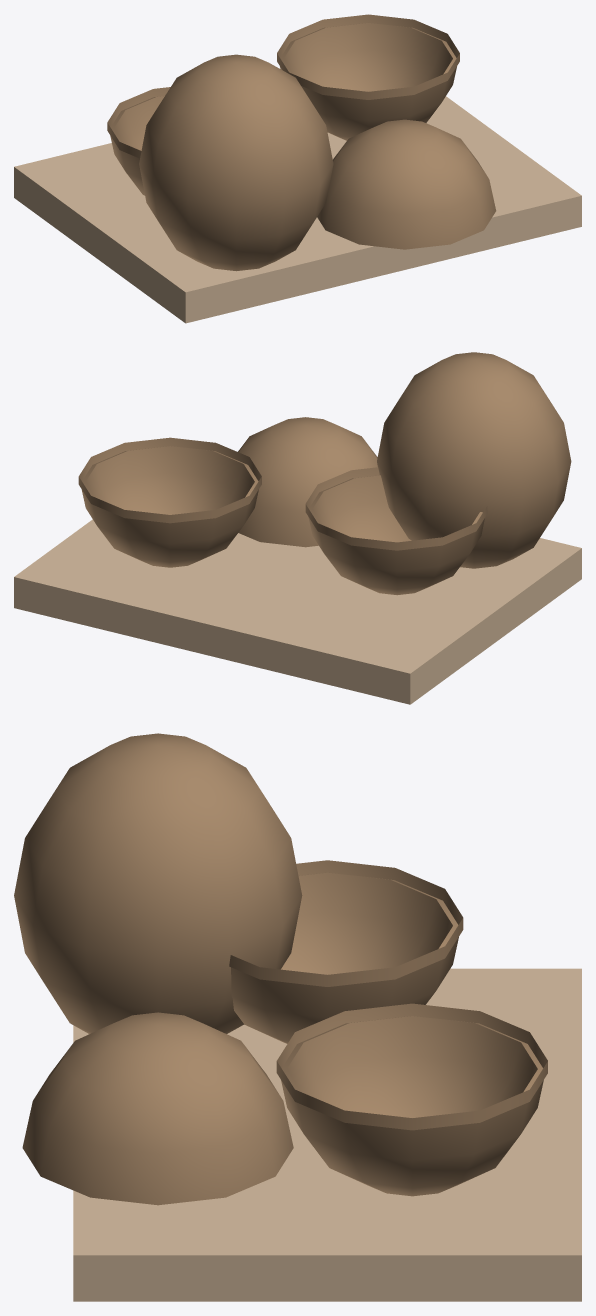
The model's file is Bathok_Shells.fbx.
3 views of the same model, one above another, from view 1: azimuth 30°, elevation 25°; view 2: azimuth 150°, elevation 25°; view 3: azimuth 270°, elevation 25° (orthographic). The views are drawn at different scales.
Visible parts, largest first — view 1: Bathok_Shells; view 2: Bathok_Shells; view 3: Bathok_Shells.
Part boxes in pixels (x1=…): Bathok_Shells: x1=14, y1=14, x2=581, y2=323; Bathok_Shells: x1=14, y1=352, x2=581, y2=704; Bathok_Shells: x1=14, y1=733, x2=581, y2=1301.
Size of the model in its own units: 0.405 by 0.2128 by 0.335.
